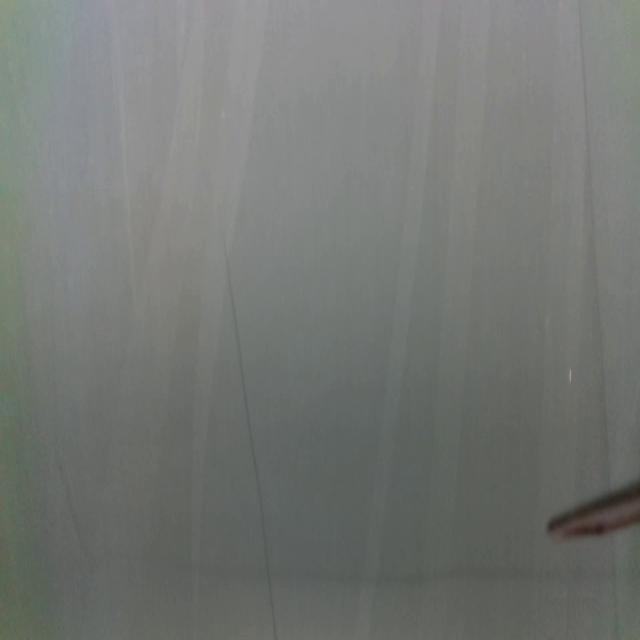color bleeding: (72, 555, 638, 595)
crease: (353, 0, 440, 636), (183, 0, 262, 632), (417, 0, 492, 632), (220, 228, 278, 638), (578, 0, 611, 488), (609, 531, 620, 637)
hole: (568, 367, 573, 386)
